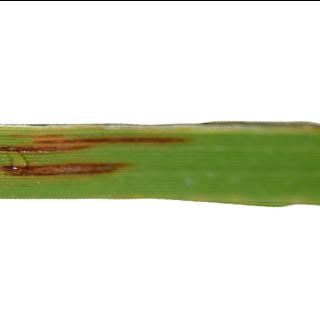Bercak-Cokelat-Sempit: (1, 127, 193, 151), (0, 156, 125, 179)
